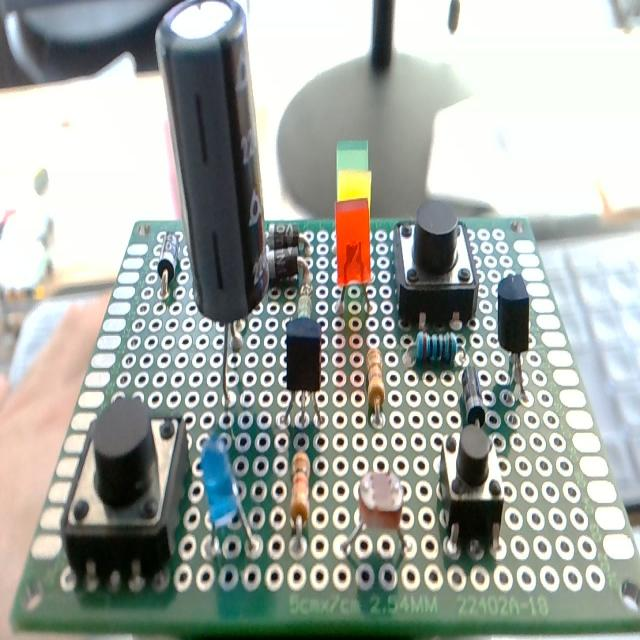Electrolytic capacitor: (155, 0, 273, 408)
cds: (342, 468, 411, 561)
diode: (462, 363, 486, 428), (158, 232, 180, 297), (271, 244, 299, 285), (271, 224, 299, 255)
led: (199, 432, 259, 556), (333, 195, 373, 318)
resistor: (289, 451, 311, 553), (413, 330, 458, 364), (366, 346, 385, 422)
switch: (61, 394, 189, 583), (394, 206, 479, 330), (439, 418, 503, 551)
transistor: (283, 312, 325, 432), (497, 274, 532, 405)
